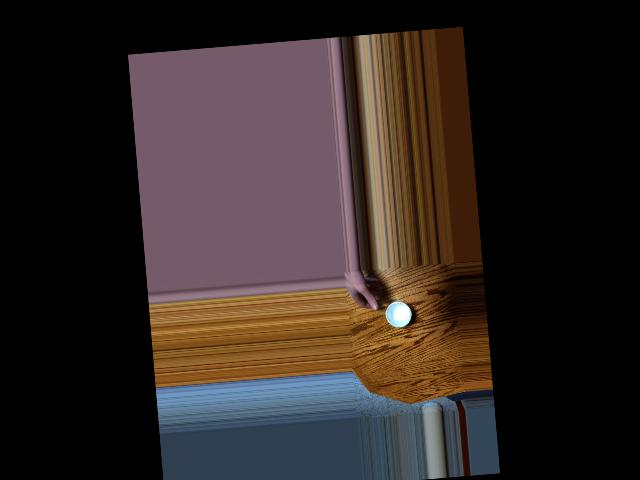cotage: (381, 294, 411, 328)
